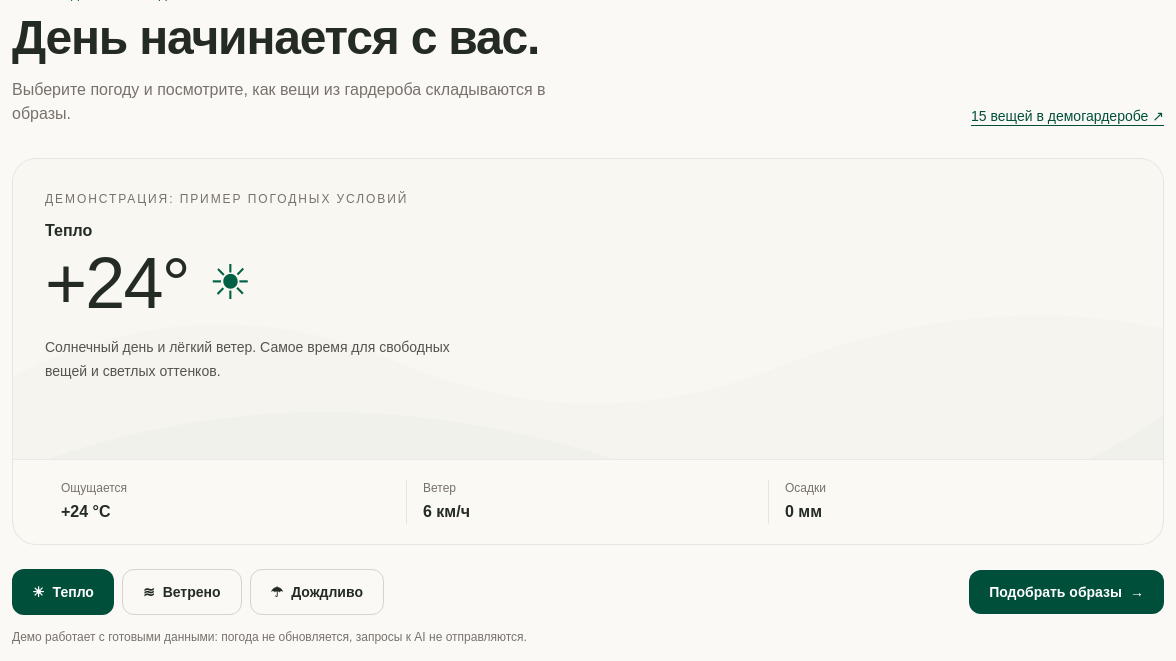
Test case: demo selection › requires an explicit selection and clears it when weather changes
Check: the button "Вопросы об образах" is not shown
What coordinates should you click on to do the following:
click the button "Подобрать образы →"
I would click on:
 (1067, 592)
Its box is [969,570,1164,614].
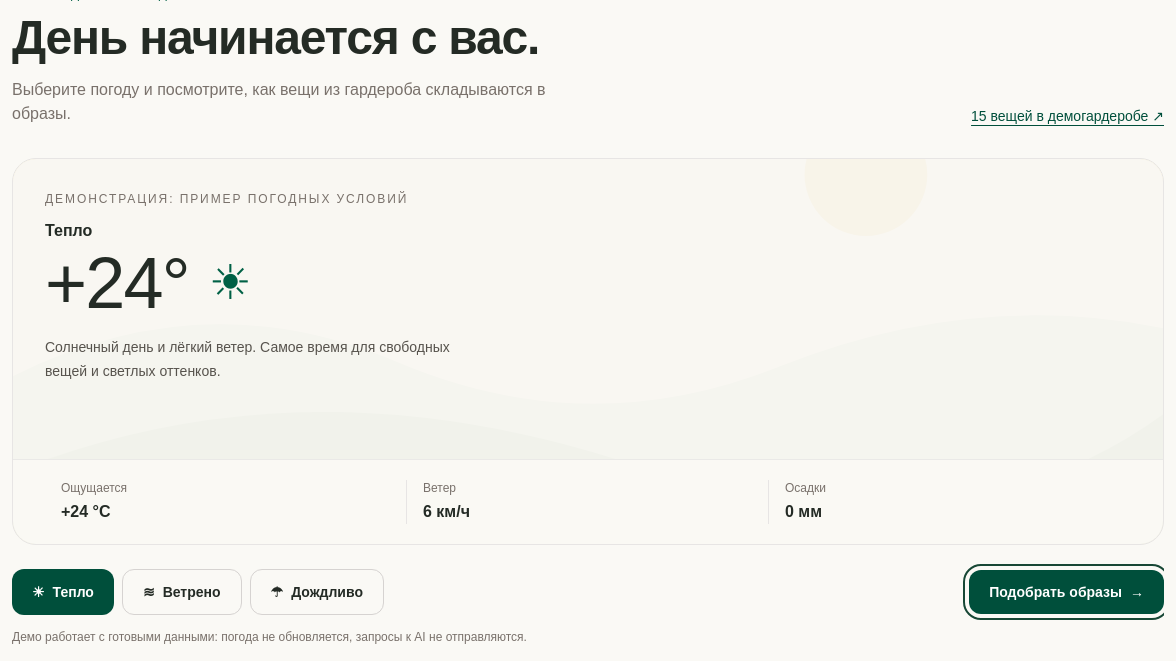
What coordinates should you click on to do the following:
click the button "☂ Дождливо"
I would click on:
 (317, 592)
Its box is [250,569,384,615].
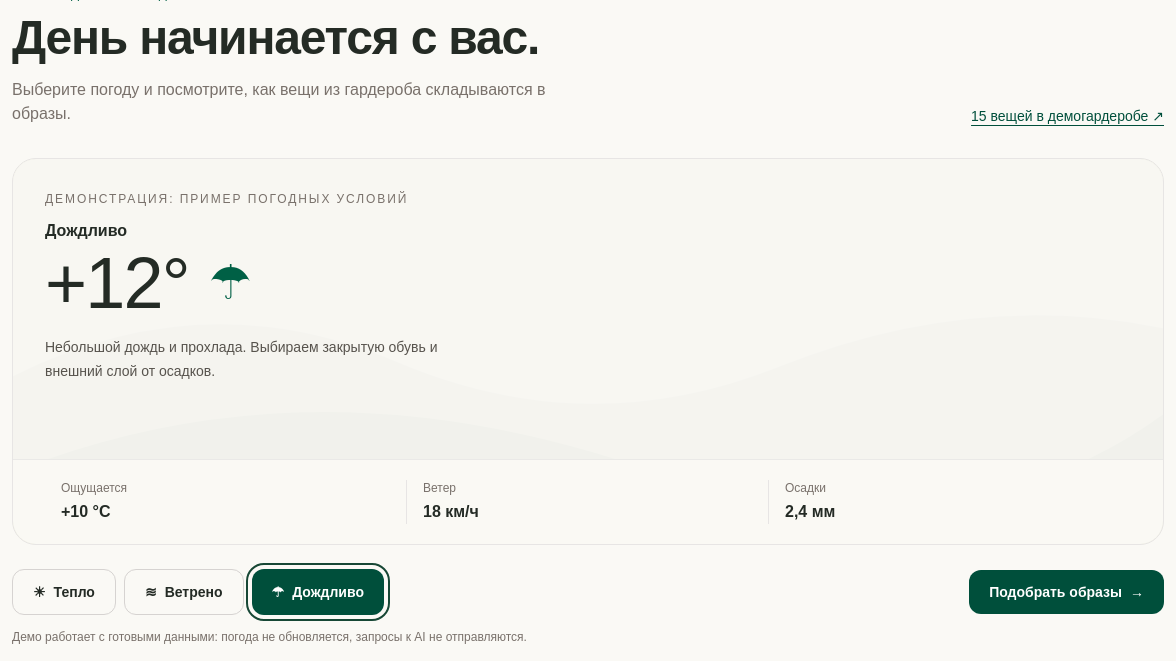
Check: the button "Вопросы об образах" is not shown
What coordinates should you click on to do the following:
click the button "Подобрать образы →"
I would click on:
 (1067, 592)
Its box is [969,570,1164,614].
(page scrolled)
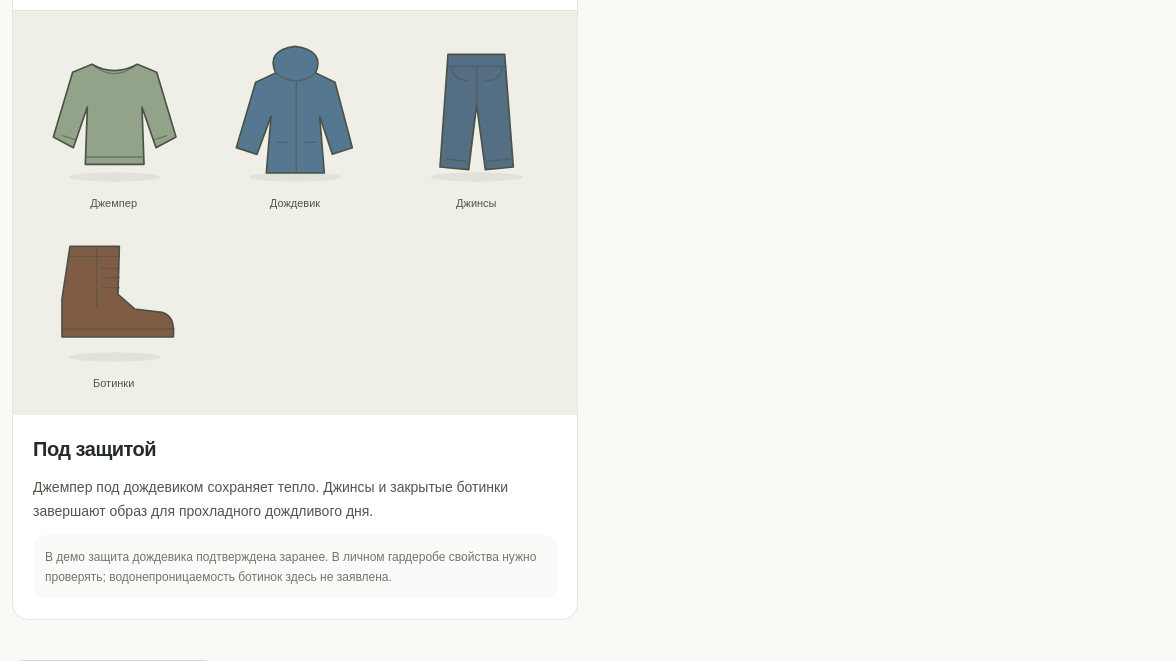
Check: the heading "Под защитой" is shown, box [33,438,156,460]
